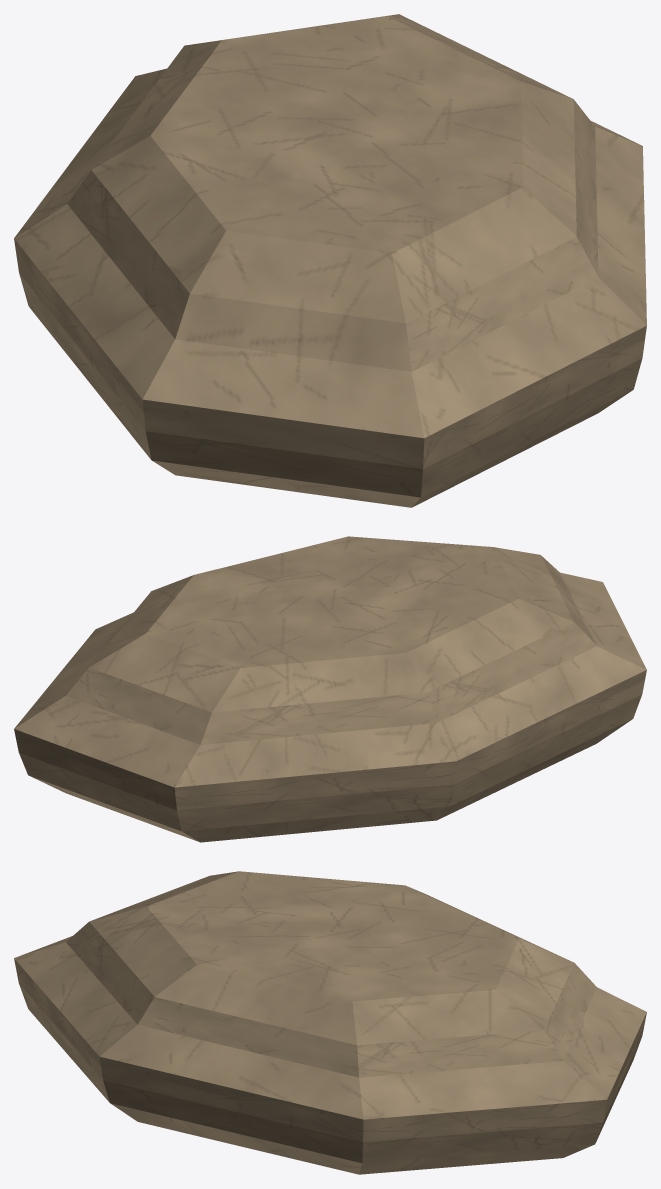
File: prop_rock_d.obj
3 views of the same model, one above another, from view 1: azimuth 30°, elevation 25°; view 2: azimuth 150°, elevation 25°; view 3: azimuth 270°, elevation 25° (orthographic). The views are drawn at different scales.
Visible parts, largest first — view 1: prop_rock_d; view 2: prop_rock_d; view 3: prop_rock_d.
Boxes of the visible parts, x1,y1,x2,y2 form: prop_rock_d: (14,14,646,507); prop_rock_d: (14,536,646,842); prop_rock_d: (14,871,646,1174).
Size of the model in its own units: 1.65 by 0.6033 by 2.
1 material, 1 textured.
